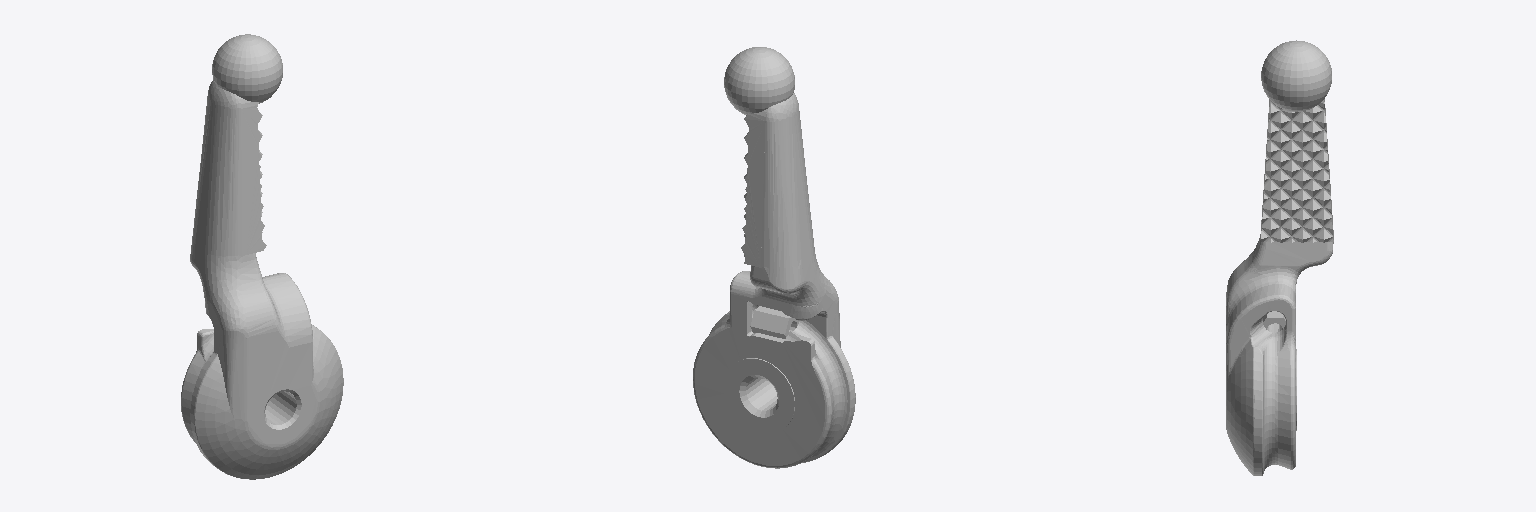
Rendered from tool gripper left link.OBJ.
The picture shows the model from 3 angles: view 1: azimuth 30°, elevation 25°; view 2: azimuth 150°, elevation 25°; view 3: azimuth 270°, elevation 25°; orthographic projection.
Visible parts, largest first — view 1: /ambf/env/psm2/tool_gripper_left_link_/ambf/env/psm2/tool_grippe; view 2: /ambf/env/psm2/tool_gripper_left_link_/ambf/env/psm2/tool_grippe; view 3: /ambf/env/psm2/tool_gripper_left_link_/ambf/env/psm2/tool_grippe.
Part boxes in pixels (left/top/right/bottom): /ambf/env/psm2/tool_gripper_left_link_/ambf/env/psm2/tool_grippe: left=181, top=34, right=343, bottom=479; /ambf/env/psm2/tool_gripper_left_link_/ambf/env/psm2/tool_grippe: left=693, top=47, right=855, bottom=468; /ambf/env/psm2/tool_gripper_left_link_/ambf/env/psm2/tool_grippe: left=1226, top=40, right=1333, bottom=475.
Bounding box in the file's own units: 0.0048 × 0.0131 × 0.003.